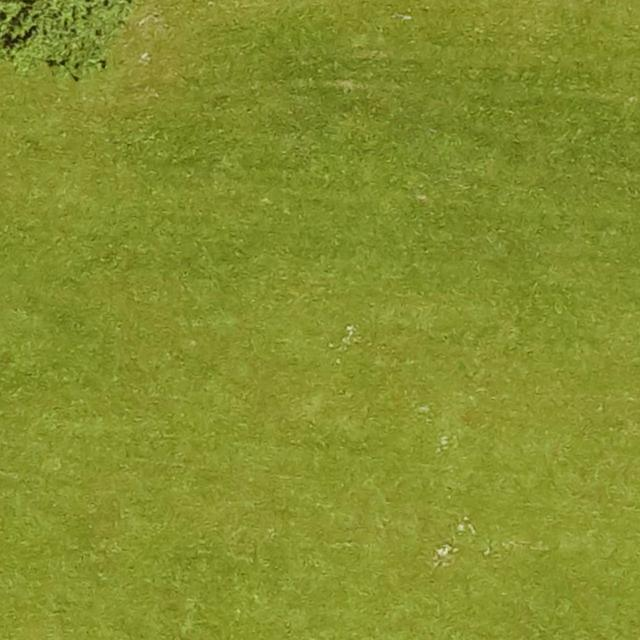tree: (0, 0, 134, 72)
